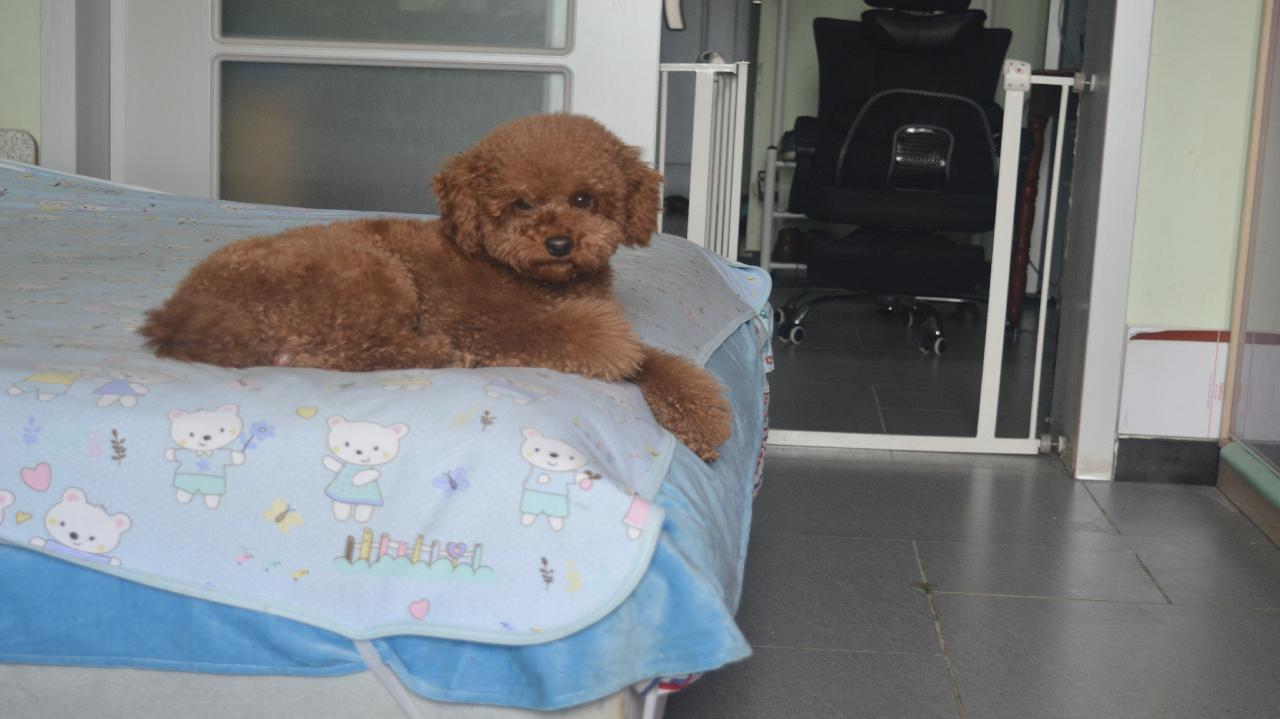zhuangzhuang: (148, 109, 748, 455)
